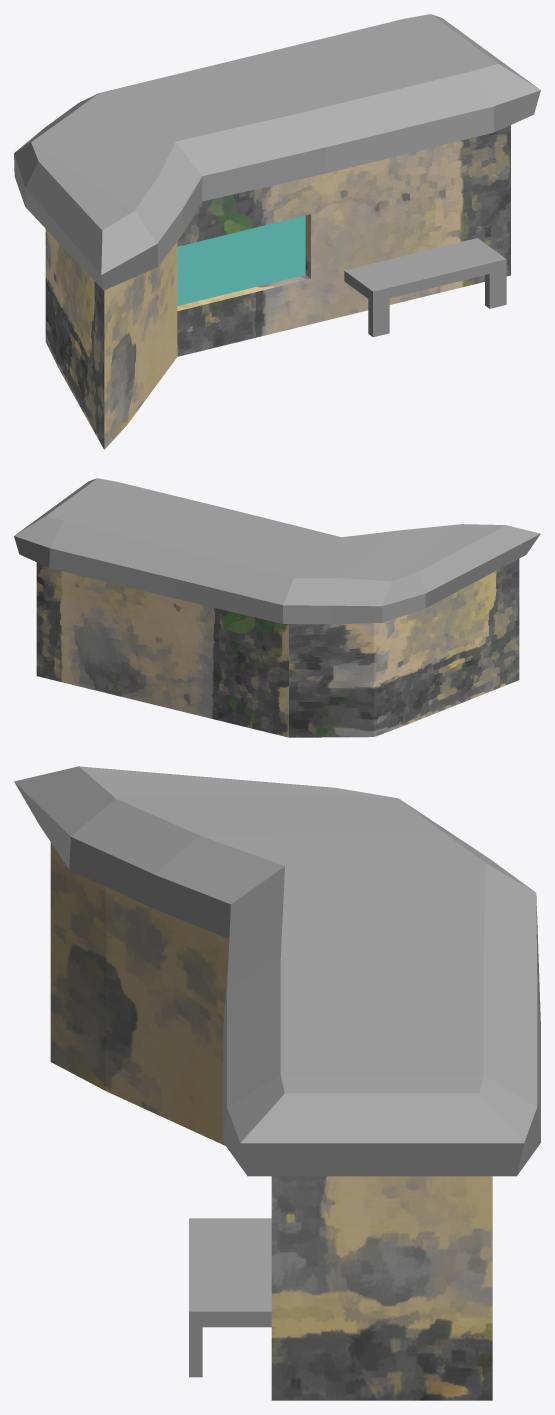
Rendered from casa curba.fbx.
The picture shows the model from 3 angles, top to bottom: view 1: azimuth 30°, elevation 25°; view 2: azimuth 150°, elevation 25°; view 3: azimuth 270°, elevation 25°; orthographic projection. The views are drawn at different scales.
Parts seen in each view (by area): view 1: casa_curva_a:Bridge_24_; view 2: casa_curva_a:Bridge_24_; view 3: casa_curva_a:Bridge_24_.
Boxes of the visible parts, <box> form: casa_curva_a:Bridge_24_: <box>14,14,540,449</box>; casa_curva_a:Bridge_24_: <box>14,478,540,737</box>; casa_curva_a:Bridge_24_: <box>14,766,540,1400</box>.
Bounding box in the file's own units: 11.43 × 4.45 × 7.01.
3 materials, 1 textured.
